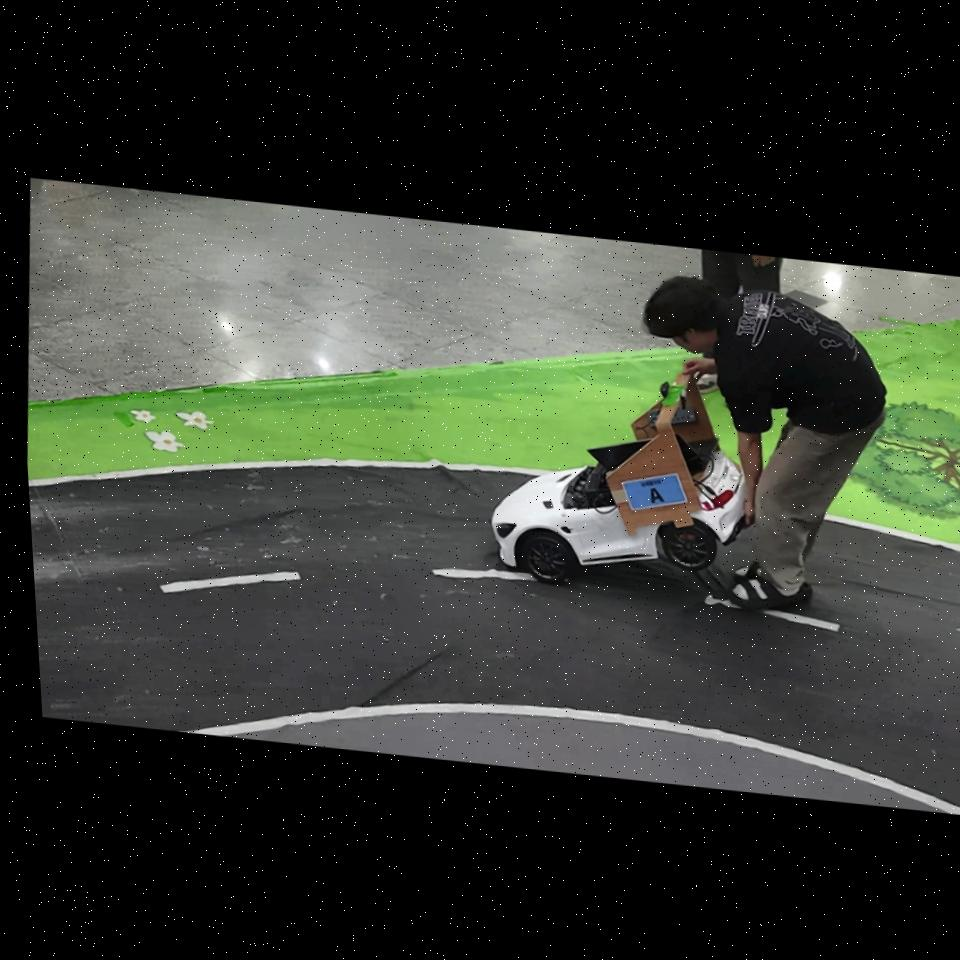broken_line: (160, 571, 301, 593), (760, 611, 840, 632), (432, 568, 537, 581), (704, 596, 742, 608)
